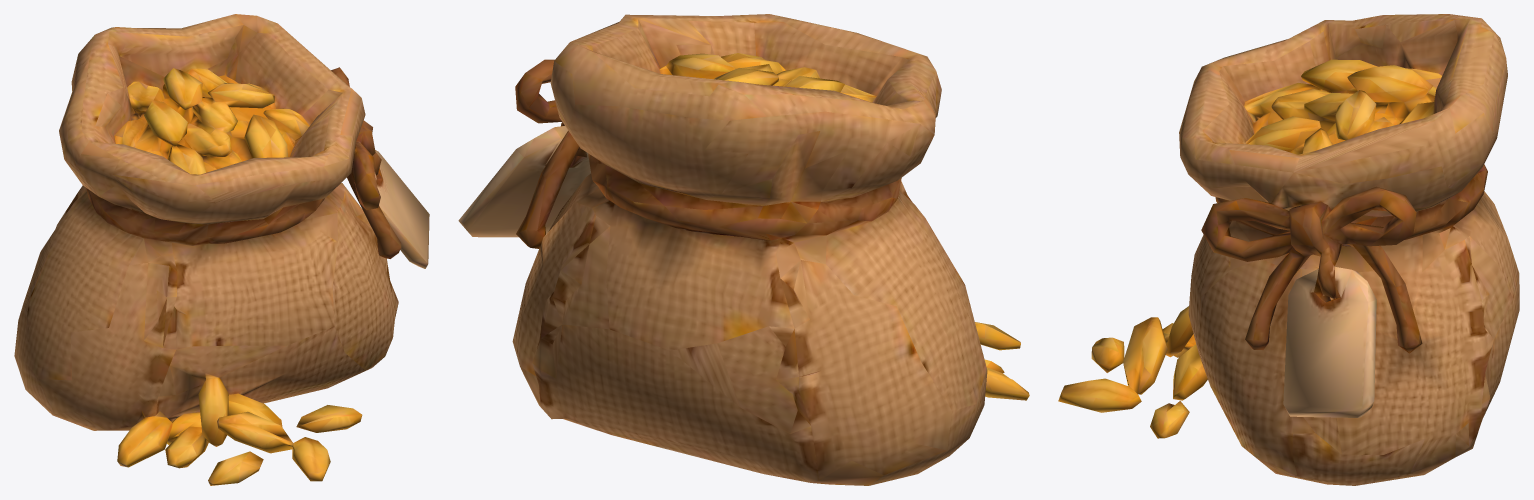
The picture shows the model from 3 angles, left to right: view 1: azimuth 30°, elevation 25°; view 2: azimuth 150°, elevation 25°; view 3: azimuth 270°, elevation 25°; orthographic projection. The views are drawn at different scales.
Visible parts, largest first — view 1: oat-sack; view 2: oat-sack; view 3: oat-sack.
Boxes of the visible parts, x1,y1,x2,y2 form: oat-sack: (14,14,429,485); oat-sack: (458,14,1029,485); oat-sack: (1058,14,1519,485).
Size of the model in its own units: 0.8439 by 0.651 by 0.7399.
1 material, 1 textured.
